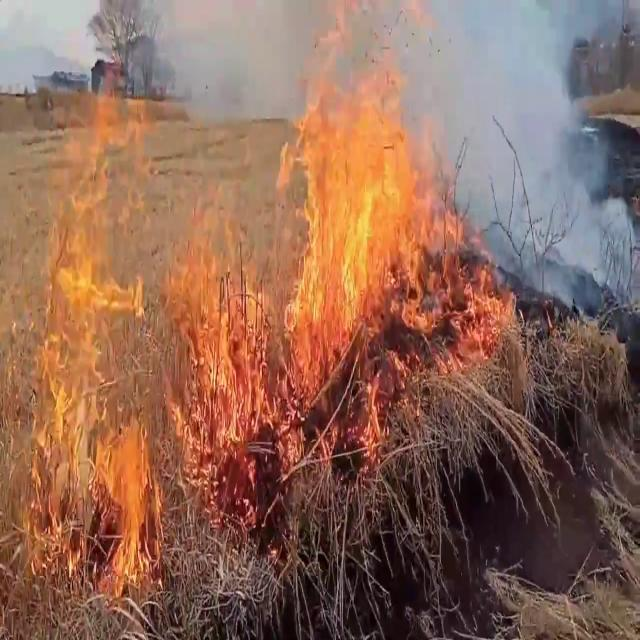Fire: (276, 54, 514, 438), (0, 69, 166, 618), (172, 206, 272, 464)
Smoke: (410, 0, 640, 292)
